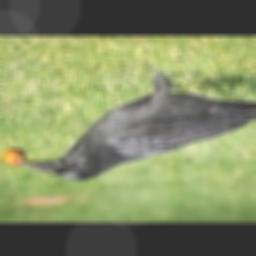Crow: (21, 71, 256, 182)
